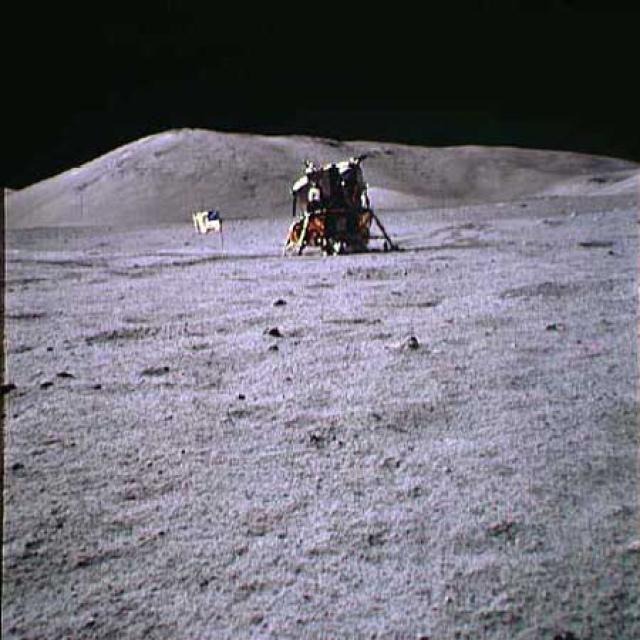artifact: (272, 152, 404, 257), (188, 204, 233, 254)
crater: (228, 260, 515, 282), (96, 298, 267, 316), (267, 322, 381, 342), (78, 323, 160, 344), (1, 302, 67, 323)
